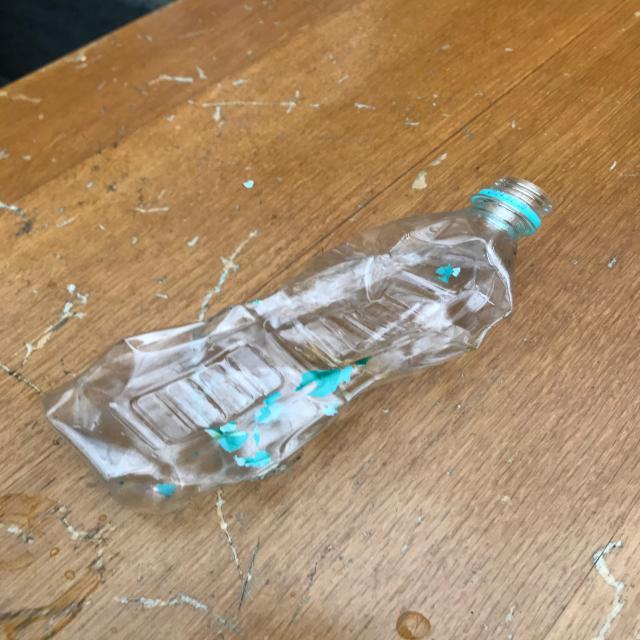plastic_bottle: (45, 176, 554, 514)
